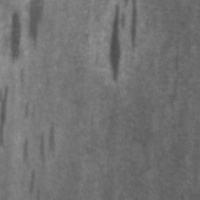inclusion: (19, 101, 57, 199), (104, 0, 143, 84), (0, 4, 26, 67), (24, 0, 47, 54), (0, 82, 14, 150)
